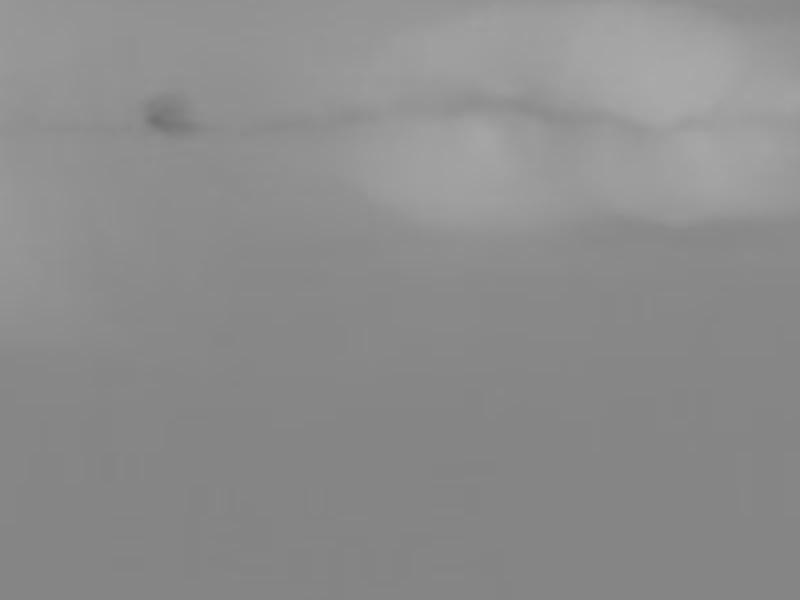defect: (144, 94, 200, 136)
